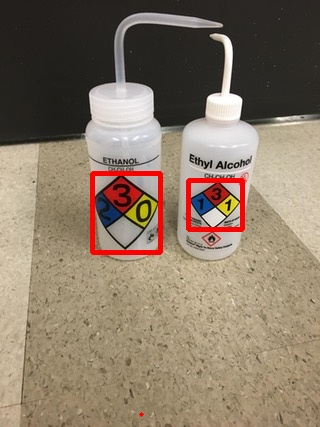nfpa: (92, 173, 160, 252), (188, 180, 242, 229)
